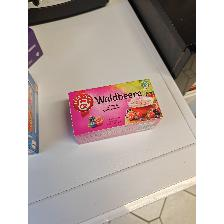Tee: (66, 78, 163, 146)
